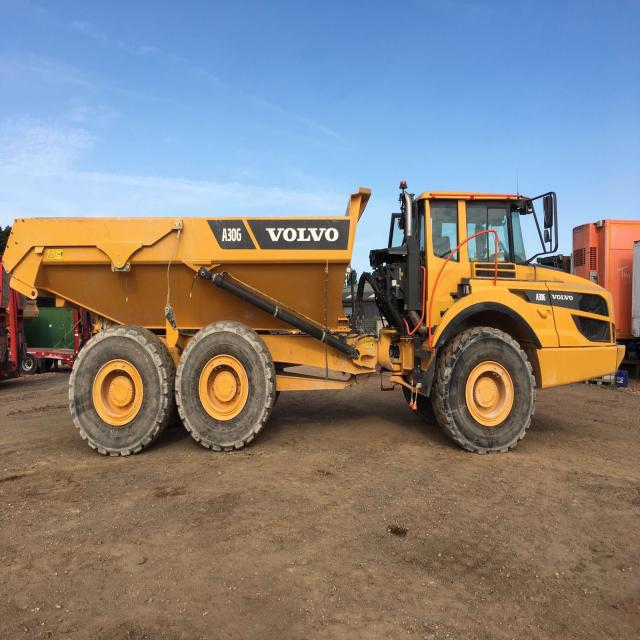dump_truck: (6, 164, 640, 461)
